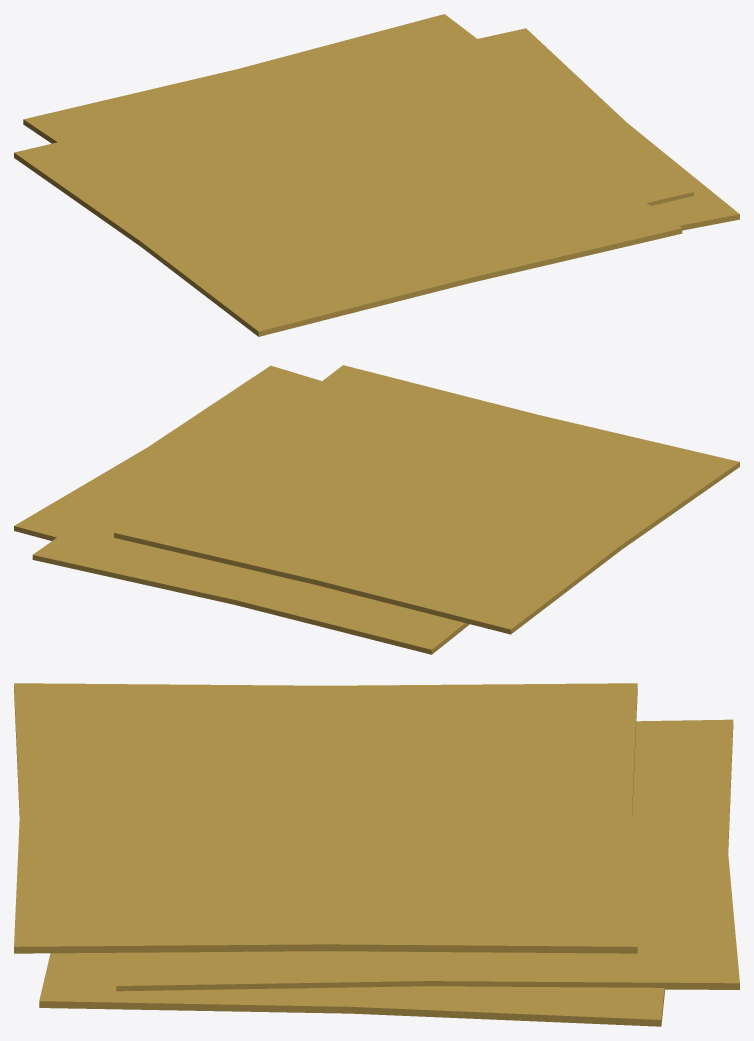
The model's file is Cheese_Singles.glb.
3 views of the same model, one above another, from view 1: azimuth 30°, elevation 25°; view 2: azimuth 150°, elevation 25°; view 3: azimuth 270°, elevation 25° (orthographic). The views are drawn at different scales.
Visible parts, largest first — view 1: Cheese_Singles; view 2: Cheese_Singles; view 3: Cheese_Singles.
Boxes of the visible parts, <box> form: Cheese_Singles: <box>14,14,739,336</box>; Cheese_Singles: <box>14,365,739,654</box>; Cheese_Singles: <box>14,683,739,1026</box>.
Size of the model in its own units: 1.03 by 0.0284 by 0.9751.
